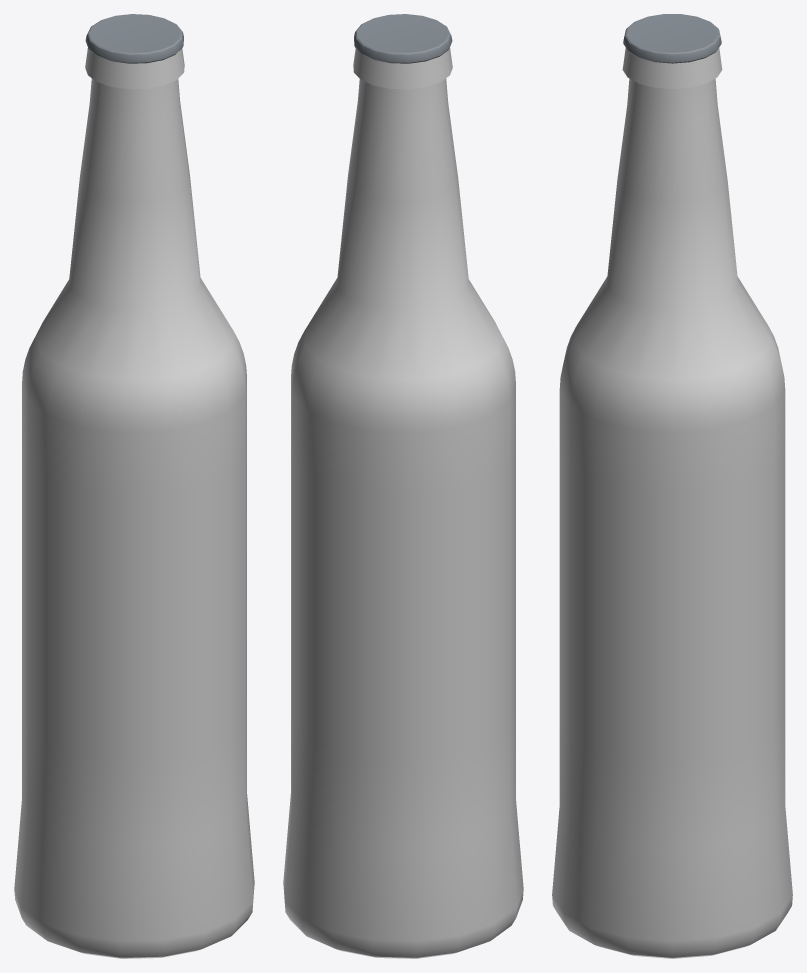
The model's file is K_bouteille.fbx.
3 views of the same model, side by side, from view 1: azimuth 30°, elevation 25°; view 2: azimuth 150°, elevation 25°; view 3: azimuth 270°, elevation 25° (orthographic).
Parts seen in each view (by area): view 1: Cylinder001, Object001; view 2: Cylinder001, Object001; view 3: Cylinder001, Object001.
Part boxes in pixels (<box>): Cylinder001: <box>14,48,254,958</box>; Object001: <box>85,14,183,63</box>; Cylinder001: <box>283,48,523,958</box>; Object001: <box>354,14,452,63</box>; Cylinder001: <box>552,48,792,958</box>; Object001: <box>623,14,721,63</box>.
Bounding box in the file's own units: 2.73 × 11.05 × 2.74.
